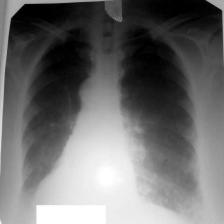tuberculosis: (13, 17, 207, 224)
